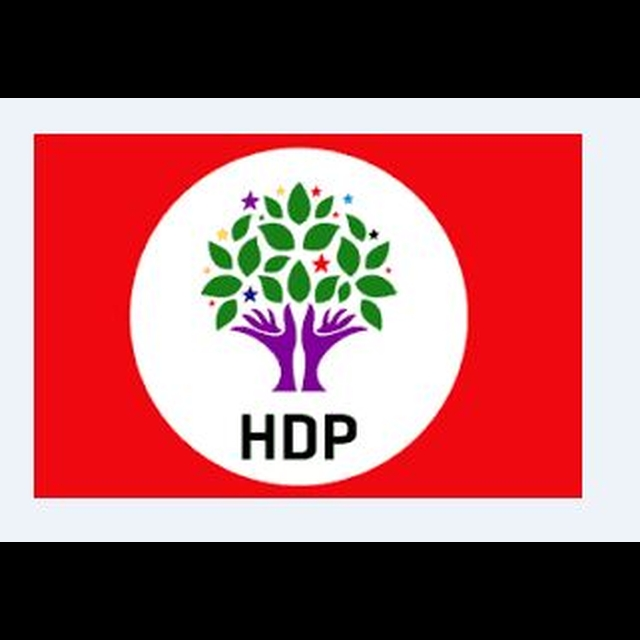HDP: (198, 180, 408, 397)
